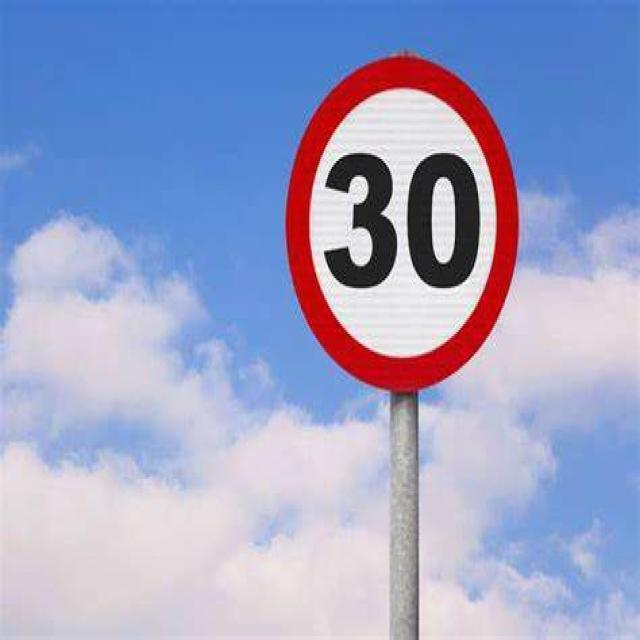speed limit 30: (282, 56, 520, 393)
